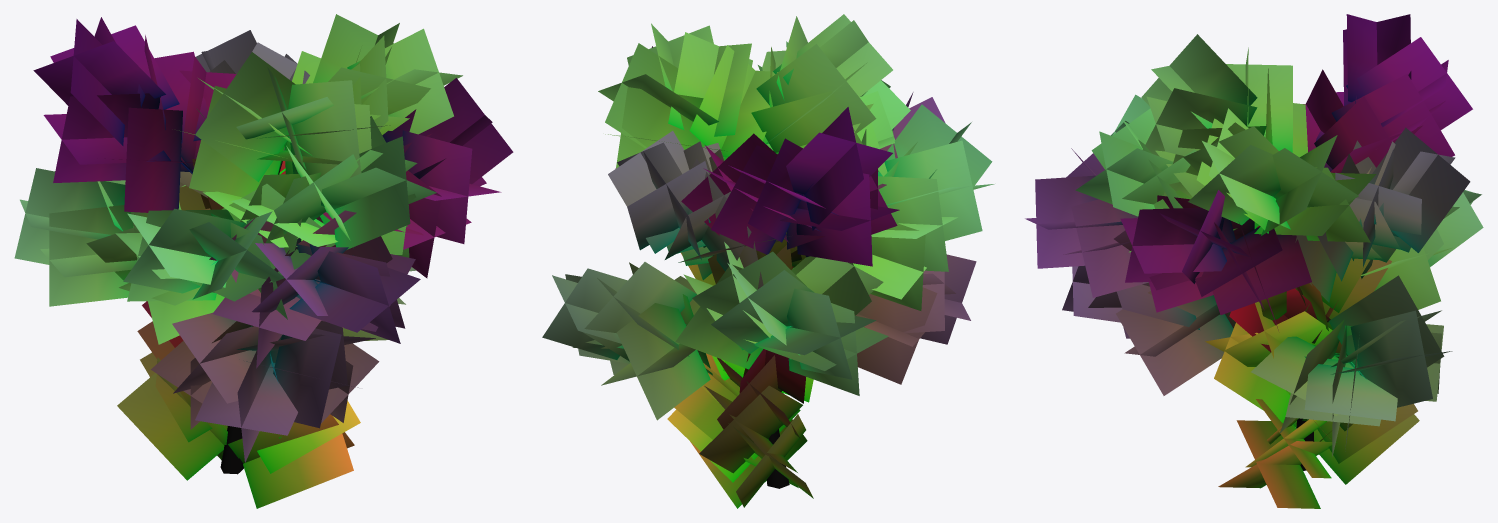
Rendered from URP_P3_Tree_10_LOD_3.fbx.
3 views of the same model, side by side, from view 1: azimuth 30°, elevation 25°; view 2: azimuth 150°, elevation 25°; view 3: azimuth 270°, elevation 25° (orthographic). The views are drawn at different scales.
Visible parts, largest first — view 1: Tree_10_LOD_3; view 2: Tree_10_LOD_3; view 3: Tree_10_LOD_3.
Boxes of the visible parts, x1=… form: Tree_10_LOD_3: x1=14, y1=14, x2=513, y2=508; Tree_10_LOD_3: x1=542, y1=14, x2=994, y2=508; Tree_10_LOD_3: x1=1025, y1=14, x2=1483, y2=508.
Bounding box in the file's own units: 465 × 563 × 522.
